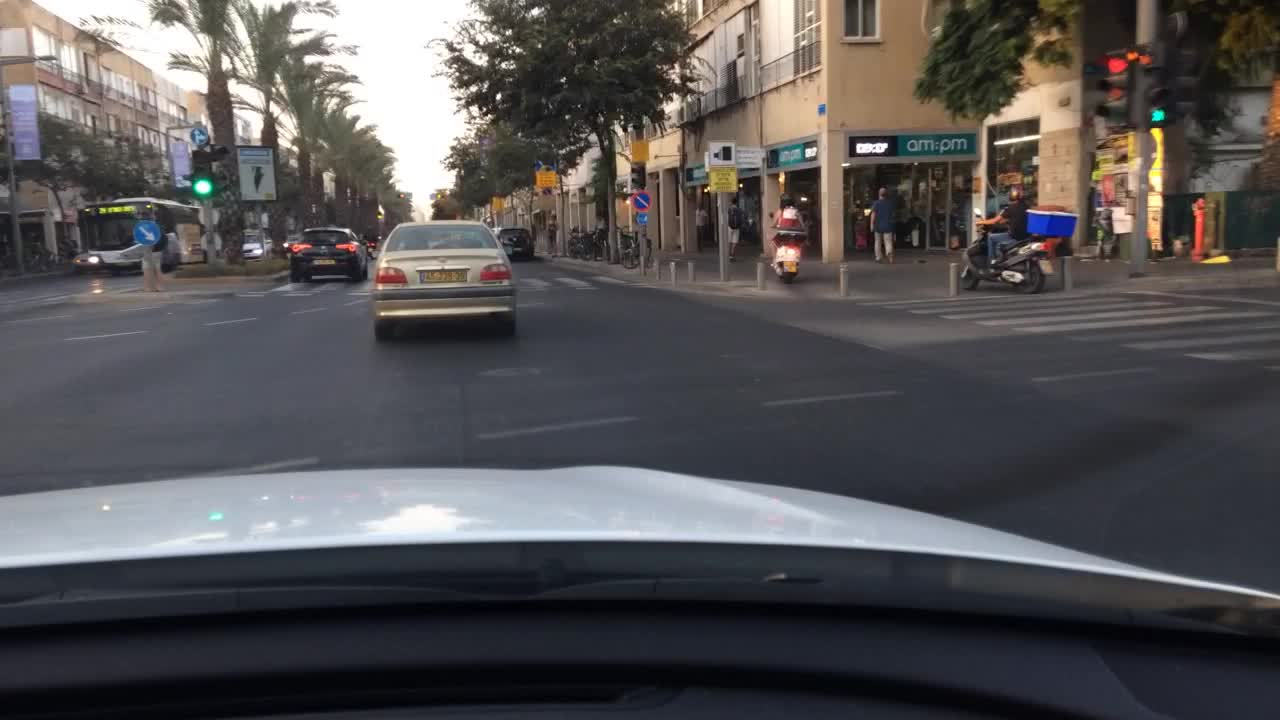bike: (621, 232, 653, 269), (567, 230, 597, 262)
bus: (77, 200, 202, 280)
car: (368, 217, 517, 341), (288, 225, 369, 285), (491, 227, 534, 262), (242, 233, 268, 258), (281, 232, 301, 254)
motor: (957, 207, 1078, 296), (769, 212, 811, 284)
person: (868, 182, 899, 264), (724, 199, 748, 260), (691, 202, 709, 250), (544, 212, 557, 258)
rider: (974, 182, 1029, 279), (766, 195, 806, 262)
traffic light: (1096, 47, 1134, 127), (1145, 47, 1170, 127), (1172, 48, 1200, 119), (185, 147, 213, 203), (627, 167, 646, 189)
traffic sign: (711, 163, 738, 197), (703, 139, 732, 165), (134, 217, 158, 247), (628, 137, 650, 164), (195, 207, 217, 230), (535, 168, 557, 187), (187, 126, 207, 144), (632, 192, 652, 210), (202, 234, 222, 252), (490, 195, 507, 212), (636, 213, 647, 228)
